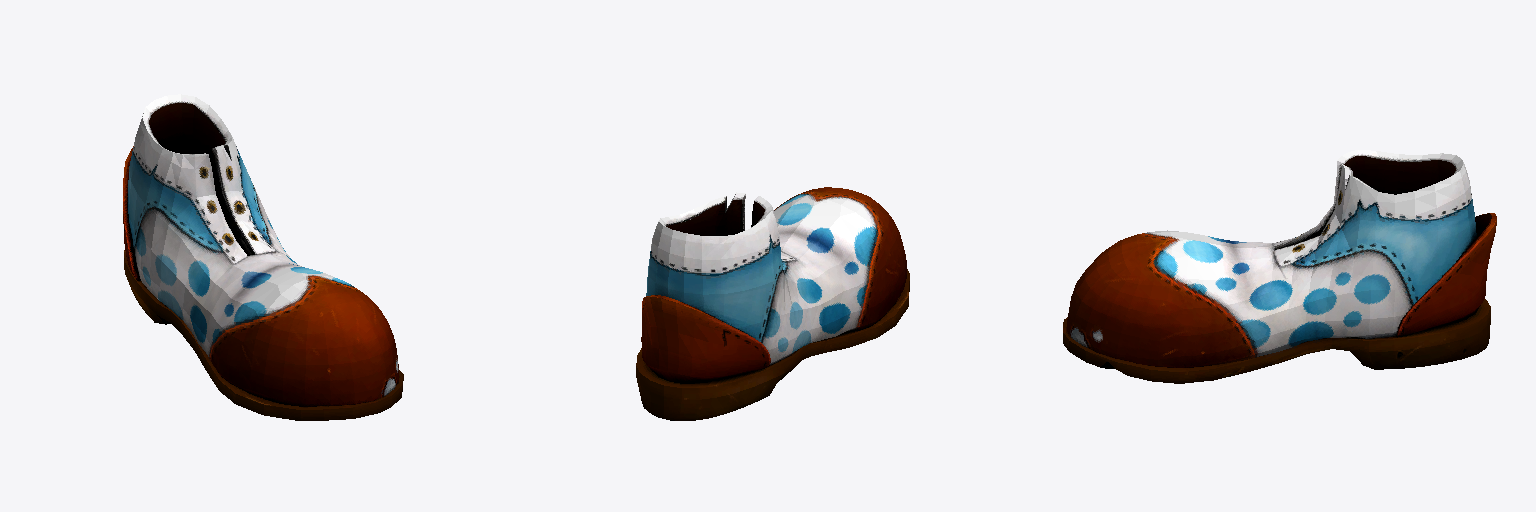
3 renders of one model, left to right at view 1: azimuth 30°, elevation 25°; view 2: azimuth 150°, elevation 25°; view 3: azimuth 270°, elevation 25°, orthographic.
Parts seen in each view (by area): view 1: Model_ClownShoe; view 2: Model_ClownShoe; view 3: Model_ClownShoe.
Boxes of the visible parts, box(x1,y1,x2,y2) form: Model_ClownShoe: box(123, 94, 403, 420); Model_ClownShoe: box(636, 187, 909, 420); Model_ClownShoe: box(1063, 150, 1496, 383).
Size of the model in its own units: 0.4668 by 0.5587 by 1.19.
1 materials, 1 textured.